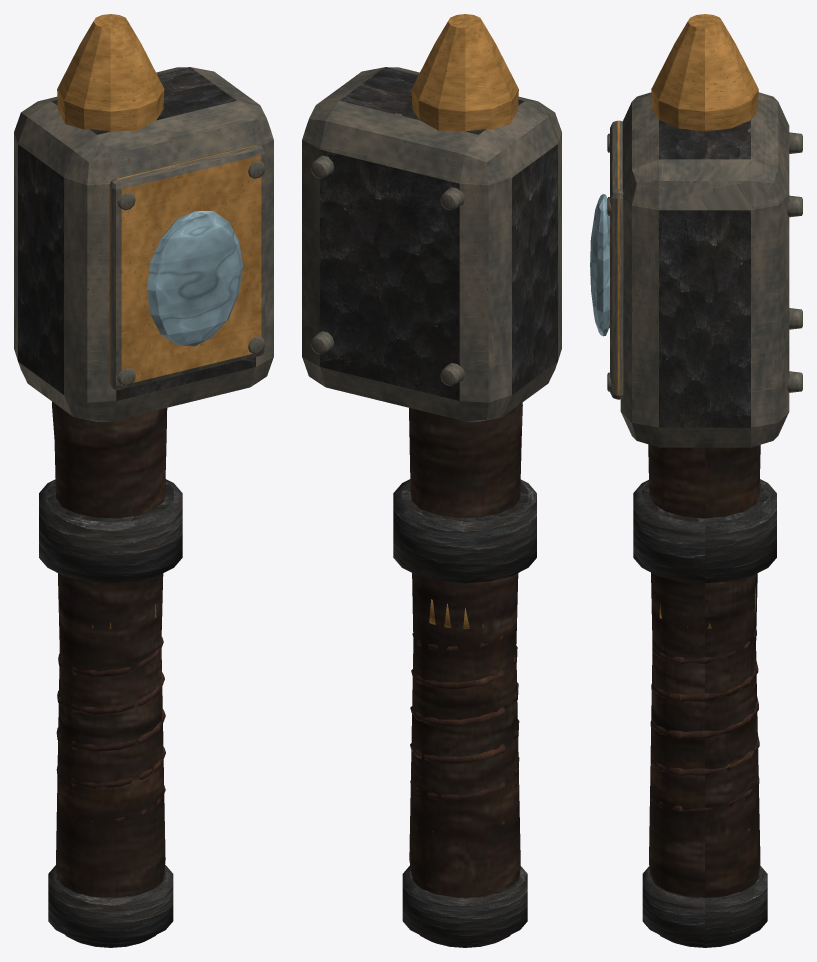
Rendered from coro_reliquary.glb.
The picture shows the model from 3 angles, left to right: view 1: azimuth 30°, elevation 25°; view 2: azimuth 150°, elevation 25°; view 3: azimuth 270°, elevation 25°; orthographic projection.
Parts seen in each view (by area): view 1: Silver-bound bevelled reliquary, Straight palm shaft and tapered ironwood.017, Inset reliquary side plate, Shaft collar.019, Gem reliquary mineral inset, Rounded reliquary crest, Socketed pommel ferrule.017, Continuous bound leather seam.026; view 2: Silver-bound bevelled reliquary, Straight palm shaft and tapered ironwood.017, Shaft collar.019, Rounded reliquary crest, Socketed pommel ferrule.017, Continuous bound leather seam.026; view 3: Silver-bound bevelled reliquary, Straight palm shaft and tapered ironwood.017, Shaft collar.019, Rounded reliquary crest, Socketed pommel ferrule.017, Inset reliquary side plate, Continuous bound leather seam.026, Gem reliquary mineral inset.
Boxes of the visible parts, <box> form: Silver-bound bevelled reliquary: <box>14,67,273,421</box>; Straight palm shaft and tapered ironwood.017: <box>52,401,167,897</box>; Inset reliquary side plate: <box>109,144,264,389</box>; Shaft collar.019: <box>39,479,182,583</box>; Gem reliquary mineral inset: <box>147,211,243,346</box>; Rounded reliquary crest: <box>57,14,164,131</box>; Socketed pommel ferrule.017: <box>48,865,173,943</box>; Continuous bound leather seam.026: <box>56,626,165,823</box>; Silver-bound bevelled reliquary: <box>302,67,561,421</box>; Straight palm shaft and tapered ironwood.017: <box>409,402,522,897</box>; Shaft collar.019: <box>393,479,536,583</box>; Rounded reliquary crest: <box>411,14,518,131</box>; Socketed pommel ferrule.017: <box>402,866,527,943</box>; Continuous bound leather seam.026: <box>410,624,519,835</box>; Silver-bound bevelled reliquary: <box>620,92,789,447</box>; Straight palm shaft and tapered ironwood.017: <box>648,444,760,897</box>; Shaft collar.019: <box>633,479,776,583</box>; Rounded reliquary crest: <box>651,14,758,131</box>; Socketed pommel ferrule.017: <box>642,865,767,943</box>; Inset reliquary side plate: <box>610,120,623,399</box>; Continuous bound leather seam.026: <box>650,628,759,848</box>; Gem reliquary mineral inset: <box>590,194,609,336</box>.
Size of the model in its own units: 0.124 by 0.522 by 0.1109.
Materials: 6 (6 with a texture image).
